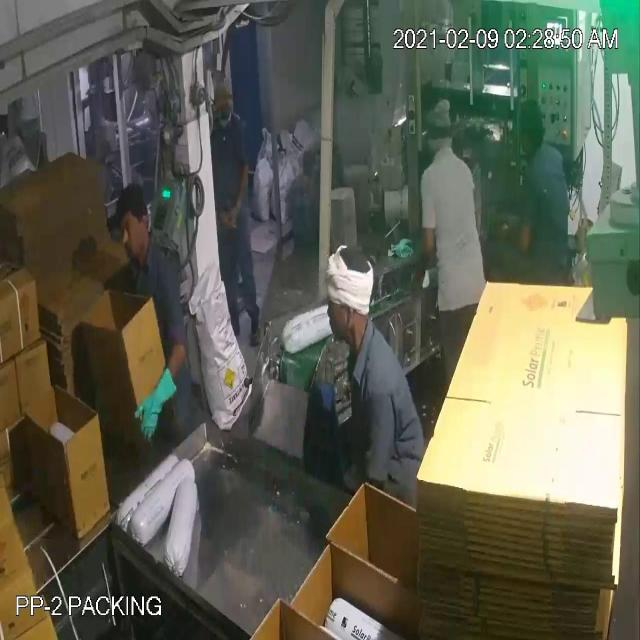gloves: (130, 362, 190, 441)
no-gloves: (224, 148, 256, 236)
